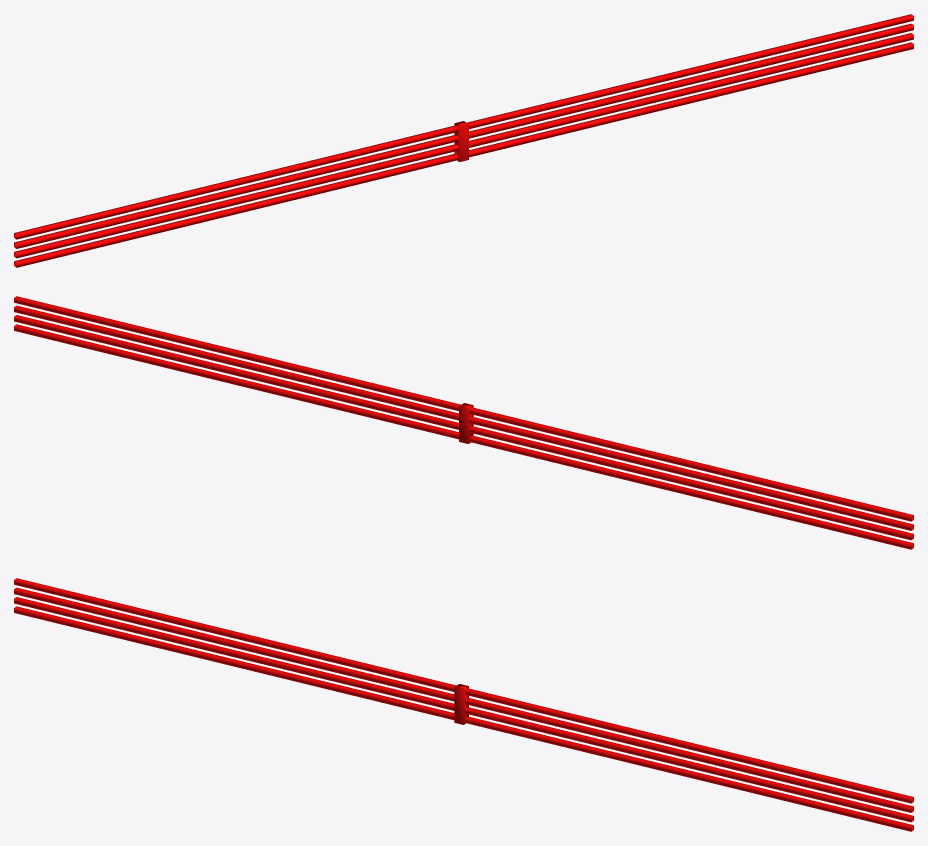
The model's file is rope_red.obj.
The picture shows the model from 3 angles, top to bottom: view 1: azimuth 30°, elevation 25°; view 2: azimuth 150°, elevation 25°; view 3: azimuth 330°, elevation 25°; orthographic projection.
Visible parts, largest first — view 1: rope_red; view 2: rope_red; view 3: rope_red.
Boxes of the visible parts, x1,y1,x2,y2 form: rope_red: (14,14,913,267); rope_red: (14,296,913,549); rope_red: (14,578,913,831).
Bounding box in the file's own units: 1 × 0.0375 × 0.01.
